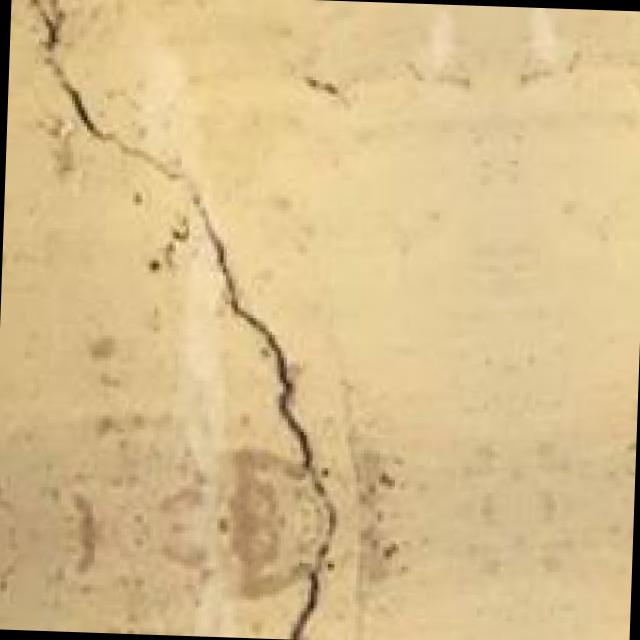crack: (0, 0, 379, 638)
